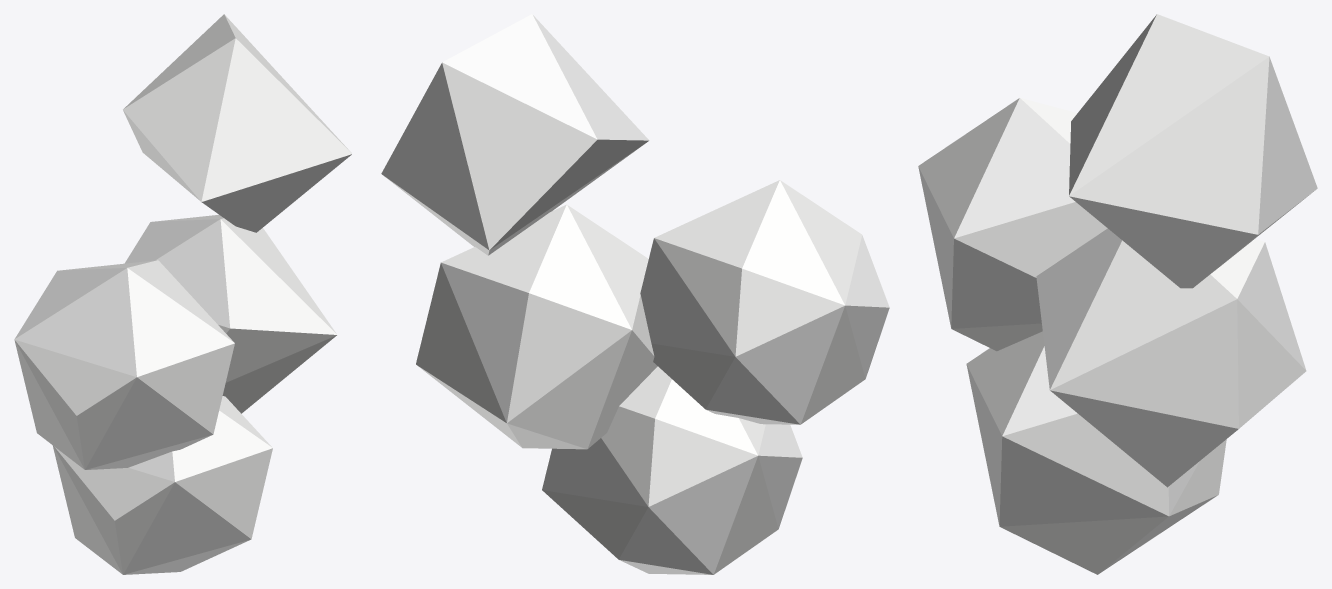
The model's file is Cloud_v23.fbx.
The picture shows the model from 3 angles, left to right: view 1: azimuth 30°, elevation 25°; view 2: azimuth 150°, elevation 25°; view 3: azimuth 270°, elevation 25°; orthographic projection. The views are drawn at different scales.
Visible parts, largest first — view 1: Cloud_v23; view 2: Cloud_v23; view 3: Cloud_v23.
Boxes of the visible parts, left/top/right/bottom form: Cloud_v23: left=14, top=14, right=351, bottom=574; Cloud_v23: left=381, top=14, right=889, bottom=574; Cloud_v23: left=918, top=14, right=1317, bottom=574.
Bounding box in the file's own units: 23.43 × 32.41 × 19.29.
Materials: 1 (1 with a texture image).
